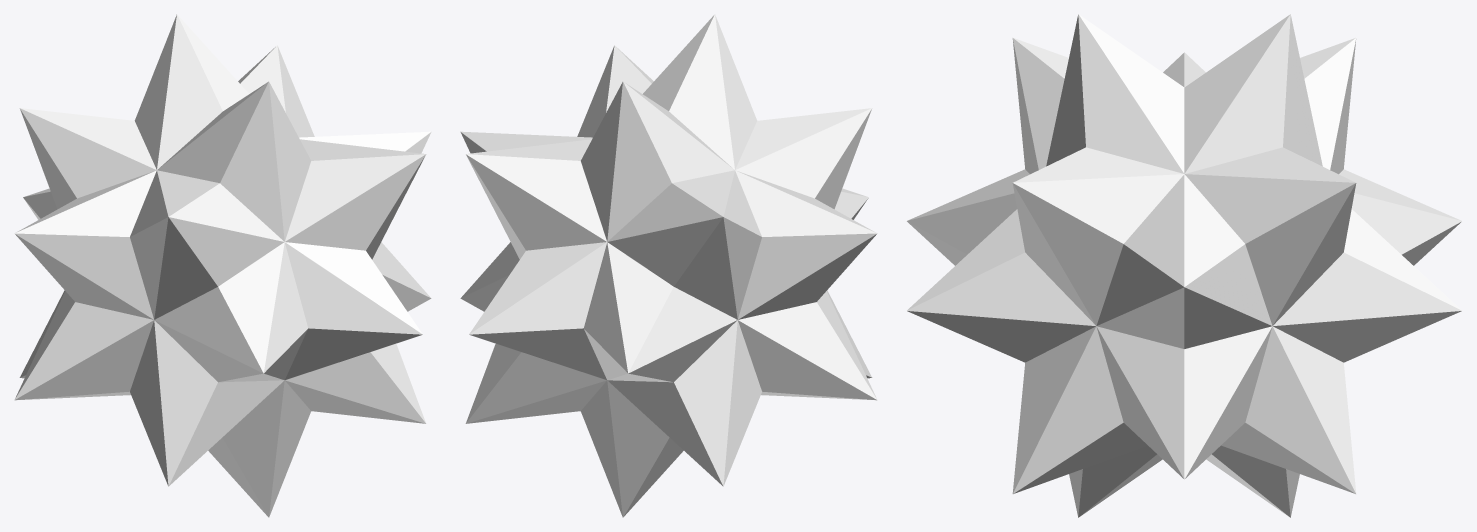
The model's file is great-dodecicosacron.gltf.
3 views of the same model, side by side, from view 1: azimuth 30°, elevation 25°; view 2: azimuth 150°, elevation 25°; view 3: azimuth 270°, elevation 25° (orthographic). The views are drawn at different scales.
Parts seen in each view (by area): view 1: Great Dodecicosacron (Dual of 10/3.6.10/7.6/5), WD101, p67; view 2: Great Dodecicosacron (Dual of 10/3.6.10/7.6/5), WD101, p67; view 3: Great Dodecicosacron (Dual of 10/3.6.10/7.6/5), WD101, p67.
Boxes of the visible parts, x1,y1,x2,y2 form: Great Dodecicosacron (Dual of 10/3.6.10/7.6/5), WD101, p67: [14, 14, 431, 517]; Great Dodecicosacron (Dual of 10/3.6.10/7.6/5), WD101, p67: [460, 14, 877, 517]; Great Dodecicosacron (Dual of 10/3.6.10/7.6/5), WD101, p67: [907, 14, 1461, 517].
Bounding box in the file's own units: 55.25 × 55.25 × 55.25.
Materials: 1 (1 with a texture image).
